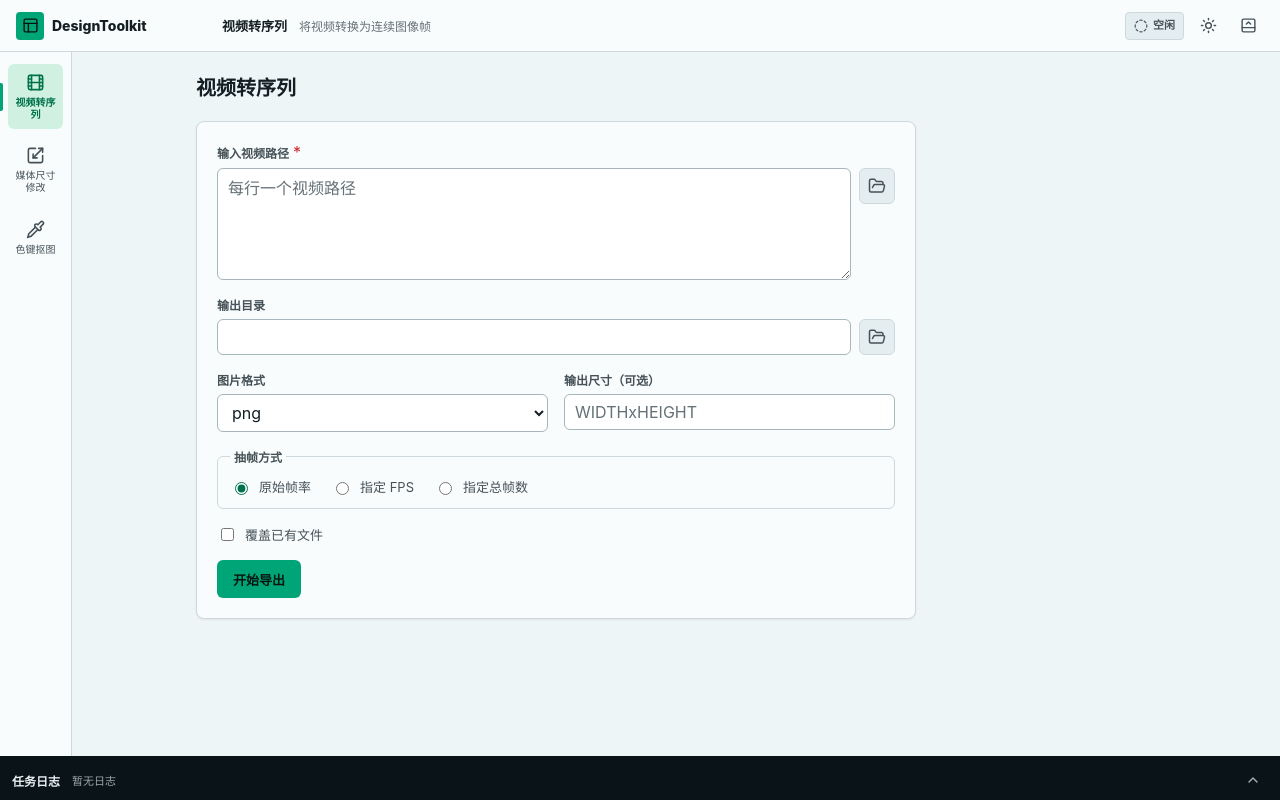
Test: AppShell › opens 色键抠图 from the navigation
Click the button "色键抠图" at [36, 238], box [8,210,63,266]
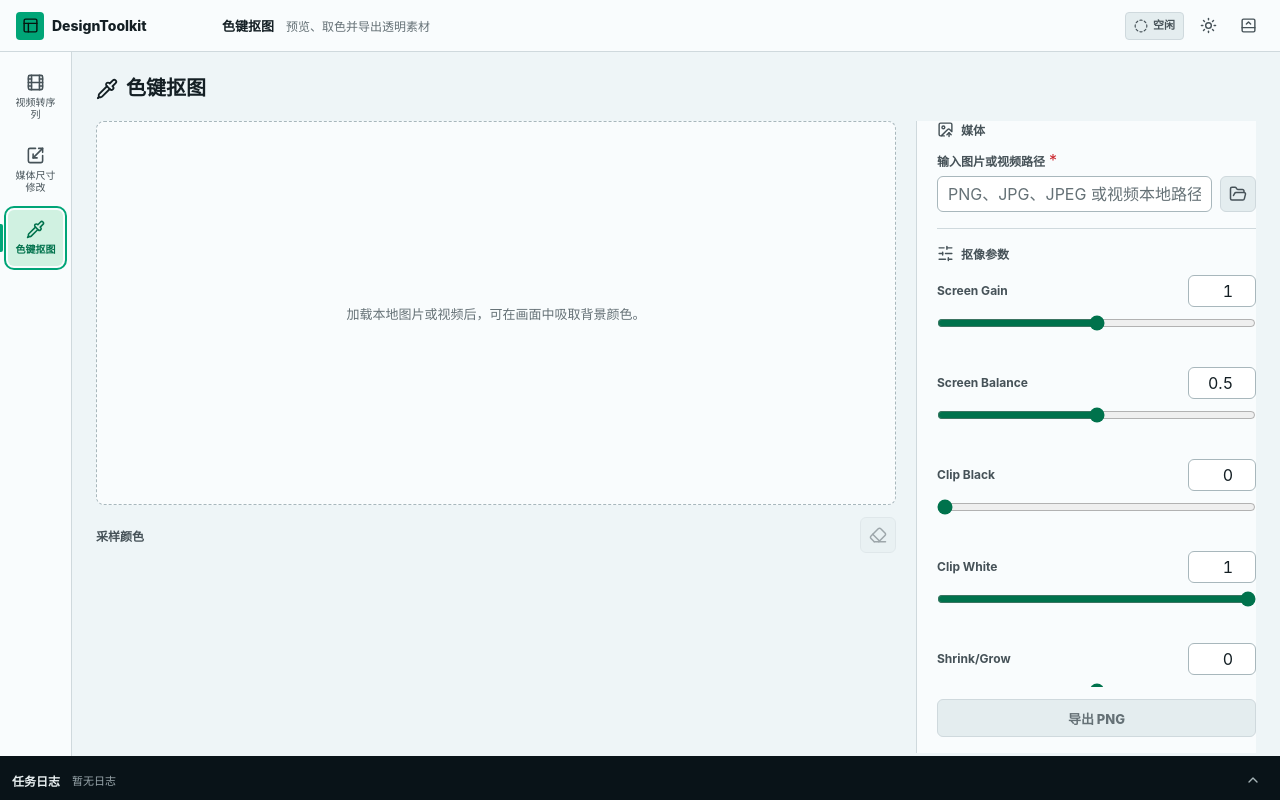
Now the heading "色键抠图" is shown, box [96,76,206,101]
